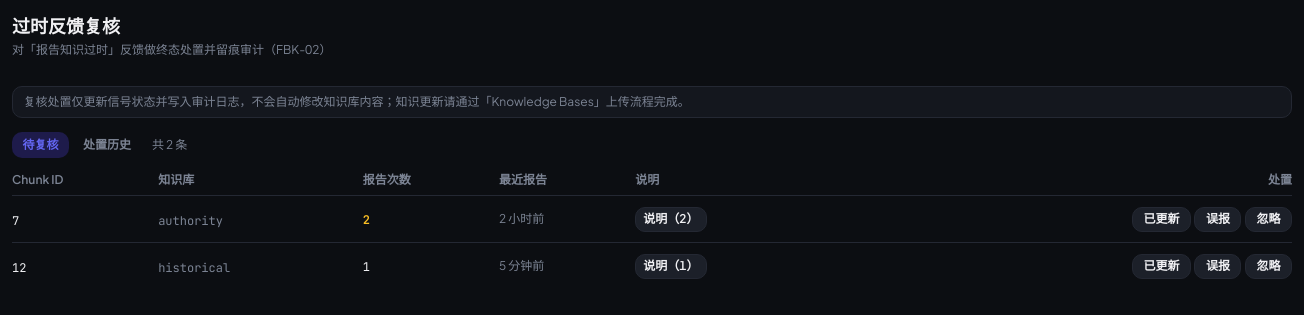
Test: ReviewQueuePanel — disposition verb › on failure keeps the row, renders the server error verbatim, and toasts the real reason
Click the button with test id "review-dispose-7-ignored": click(1268, 219) [1245, 207, 1292, 232]
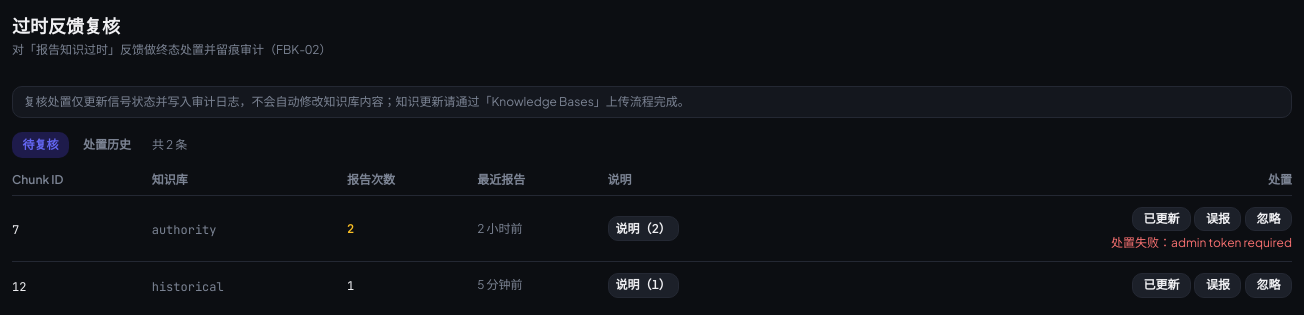
Expected: the row with test id "review-row-7" is shown, [12, 196, 1292, 262]
Now the message with test id "review-action-error-7" shows "admin token required", box [1171, 235, 1292, 250]
